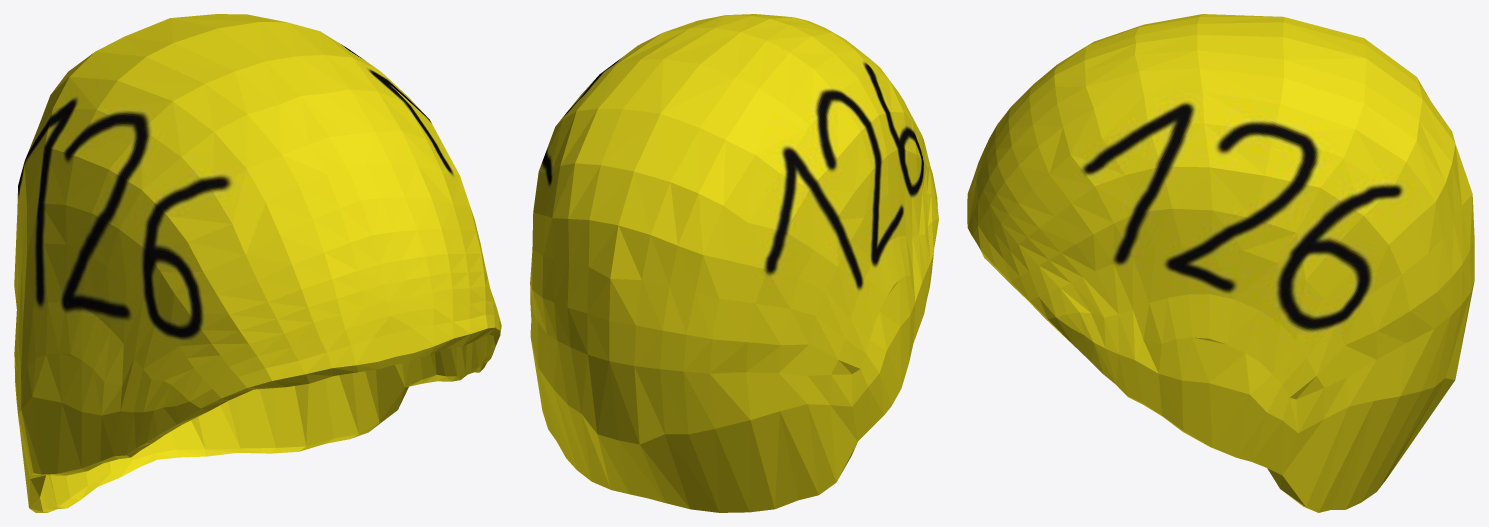
Rendered from mhw_punkduck_swim_cap.glb.
3 views of the same model, side by side, from view 1: azimuth 30°, elevation 25°; view 2: azimuth 150°, elevation 25°; view 3: azimuth 270°, elevation 25° (orthographic). The views are drawn at different scales.
Visible parts, largest first — view 1: mhw_punkduck_swim_cap; view 2: mhw_punkduck_swim_cap; view 3: mhw_punkduck_swim_cap.
Boxes of the visible parts, x1,y1,x2,y2 form: mhw_punkduck_swim_cap: [14, 14, 501, 512]; mhw_punkduck_swim_cap: [530, 14, 938, 512]; mhw_punkduck_swim_cap: [967, 14, 1474, 512].
Size of the model in its own units: 0.1759 by 0.1975 by 0.2137.
Materials: 1 (1 with a texture image).
